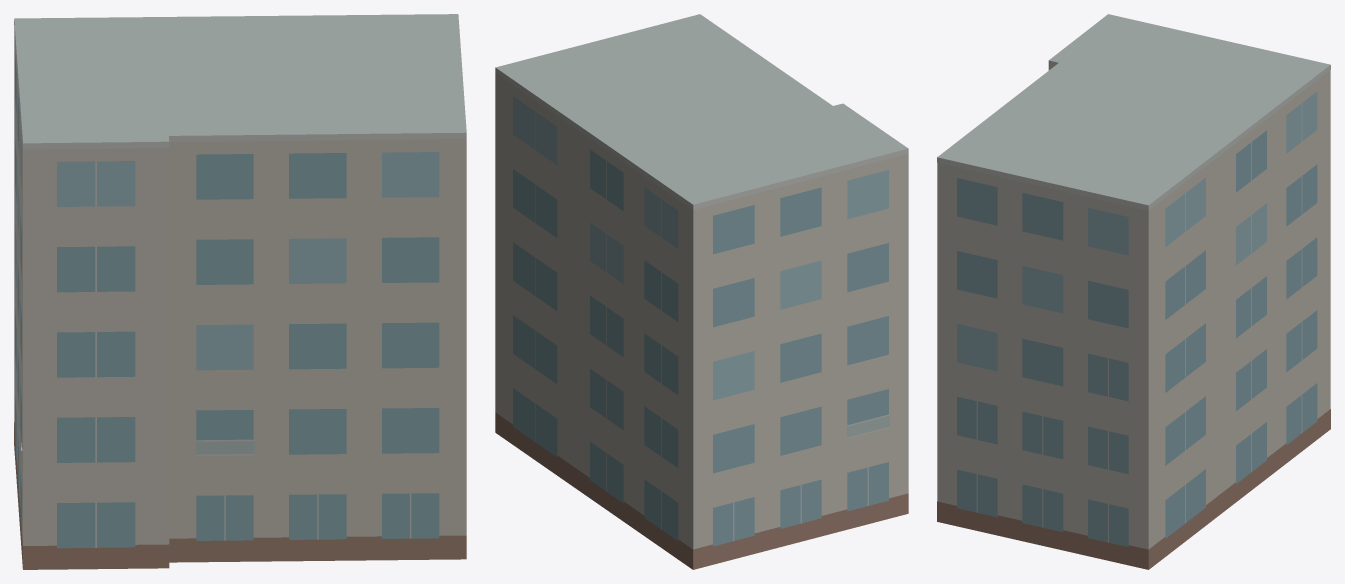
File: survey-upis-32626974.glb
3 views of the same model, side by side, from view 1: azimuth 30°, elevation 25°; view 2: azimuth 150°, elevation 25°; view 3: azimuth 270°, elevation 25° (orthographic). The views are drawn at different scales.
Parts seen in each view (by area): view 1: survey-upis-32626974.tmp; view 2: survey-upis-32626974.tmp; view 3: survey-upis-32626974.tmp.
Part boxes in pixels (box(x1,y1,x2,y2)): survey-upis-32626974.tmp: box(14, 14, 466, 569); survey-upis-32626974.tmp: box(495, 14, 908, 569); survey-upis-32626974.tmp: box(937, 14, 1330, 569).
Bounding box in the file's own units: 19.15 × 17 × 16.65.
